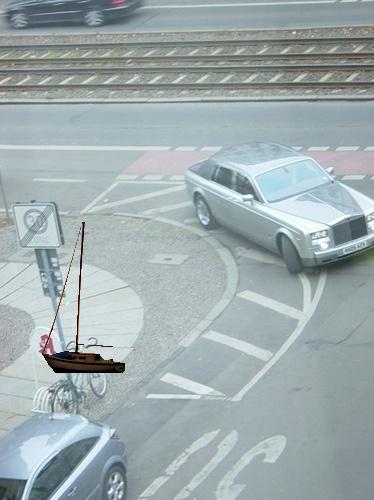tampered: (43, 223, 125, 373)
